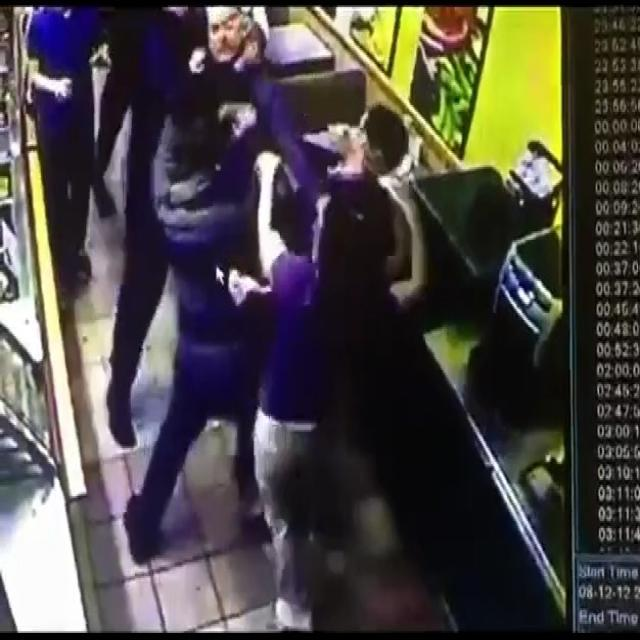fight: (150, 28, 422, 422)
